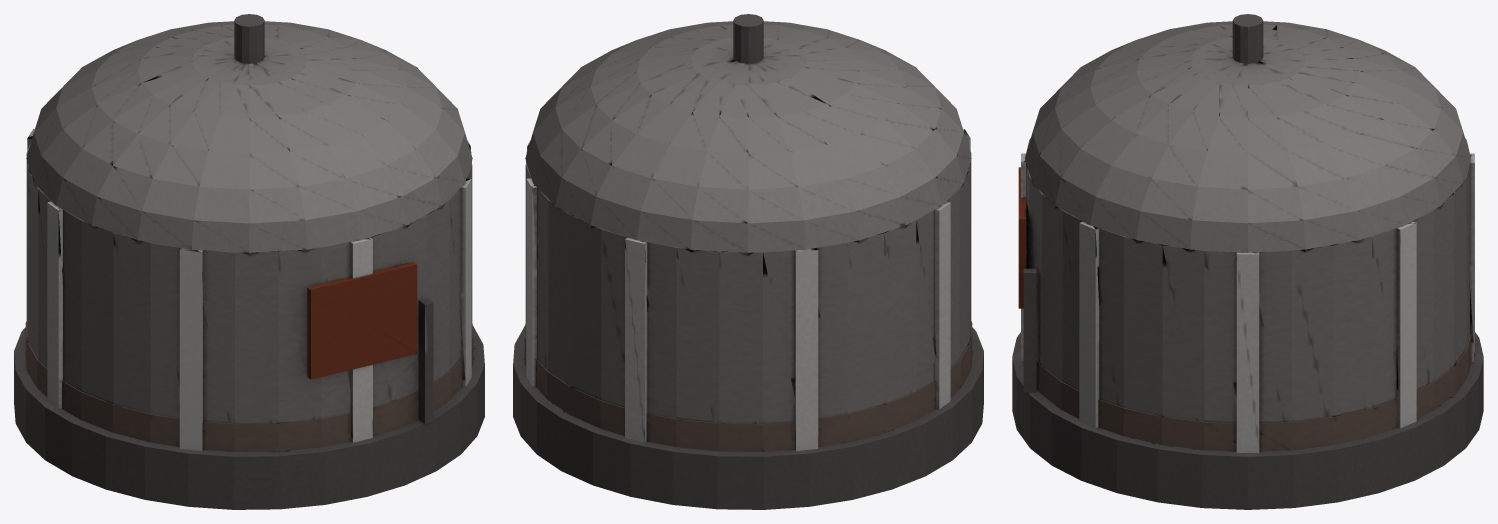
Rendered from storage_tank_2_kiln.glb.
The picture shows the model from 3 angles, left to right: view 1: azimuth 30°, elevation 25°; view 2: azimuth 150°, elevation 25°; view 3: azimuth 270°, elevation 25°; orthographic projection.
Parts seen in each view (by area): view 1: Cube; view 2: Cube; view 3: Cube.
Part boxes in pixels (x1,y1,x2,y2): Cube: (14, 14, 484, 509); Cube: (513, 14, 983, 509); Cube: (1012, 14, 1483, 509).
Size of the model in its own units: 18.5 by 16.88 by 18.5.
1 material, 1 textured.
